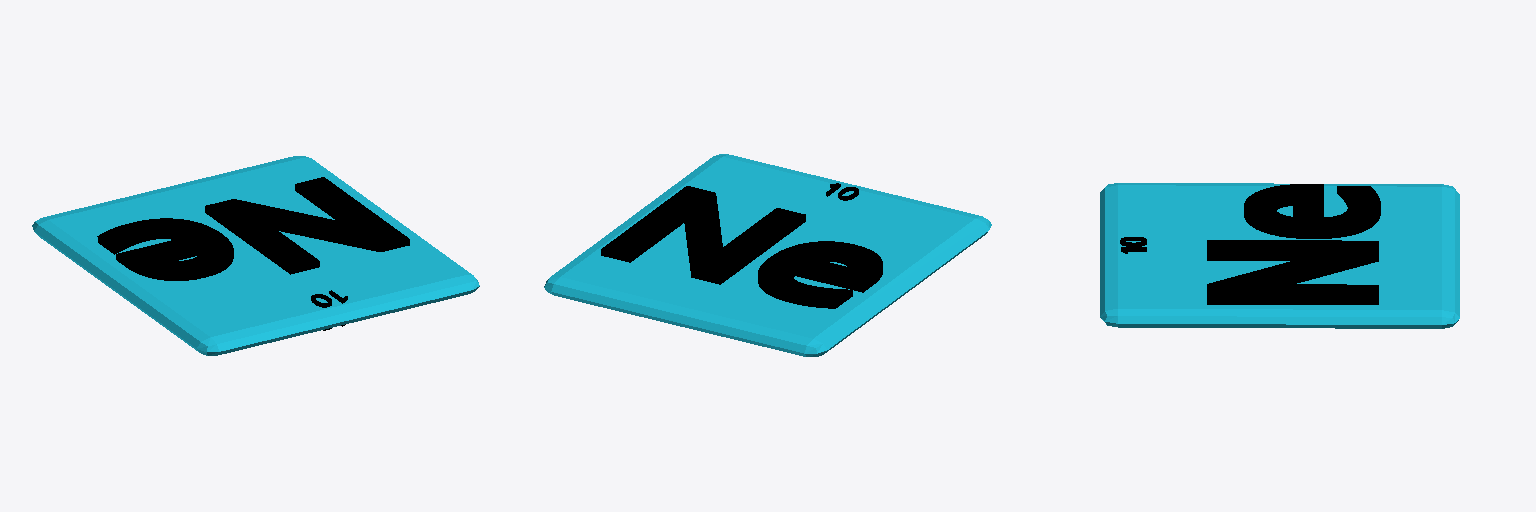
The picture shows the model from 3 angles: view 1: azimuth 30°, elevation 25°; view 2: azimuth 150°, elevation 25°; view 3: azimuth 270°, elevation 25°; orthographic projection.
Parts seen in each view (by area): view 1: 116_Box_3, 114_Ne_-_N, 115_Ne_-_e; view 2: 116_Box_3, 114_Ne_-_N, 115_Ne_-_e; view 3: 116_Box_3, 114_Ne_-_N, 115_Ne_-_e.
Boxes of the visible parts, x1=… form: 116_Box_3: x1=32, y1=156, x2=479, y2=355; 114_Ne_-_N: x1=205, y1=177, x2=409, y2=274; 115_Ne_-_e: x1=97, y1=218, x2=233, y2=280; 116_Box_3: x1=544, y1=154, x2=991, y2=356; 114_Ne_-_N: x1=601, y1=186, x2=805, y2=284; 115_Ne_-_e: x1=758, y1=241, x2=882, y2=308; 116_Box_3: x1=1100, y1=183, x2=1459, y2=328; 114_Ne_-_N: x1=1207, y1=240, x2=1378, y2=304; 115_Ne_-_e: x1=1244, y1=184, x2=1380, y2=238.
Size of the model in its own units: 9 by 0.924 by 10.